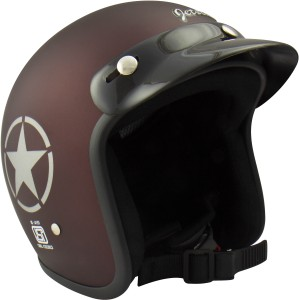with_helmet: (1, 1, 298, 300)
